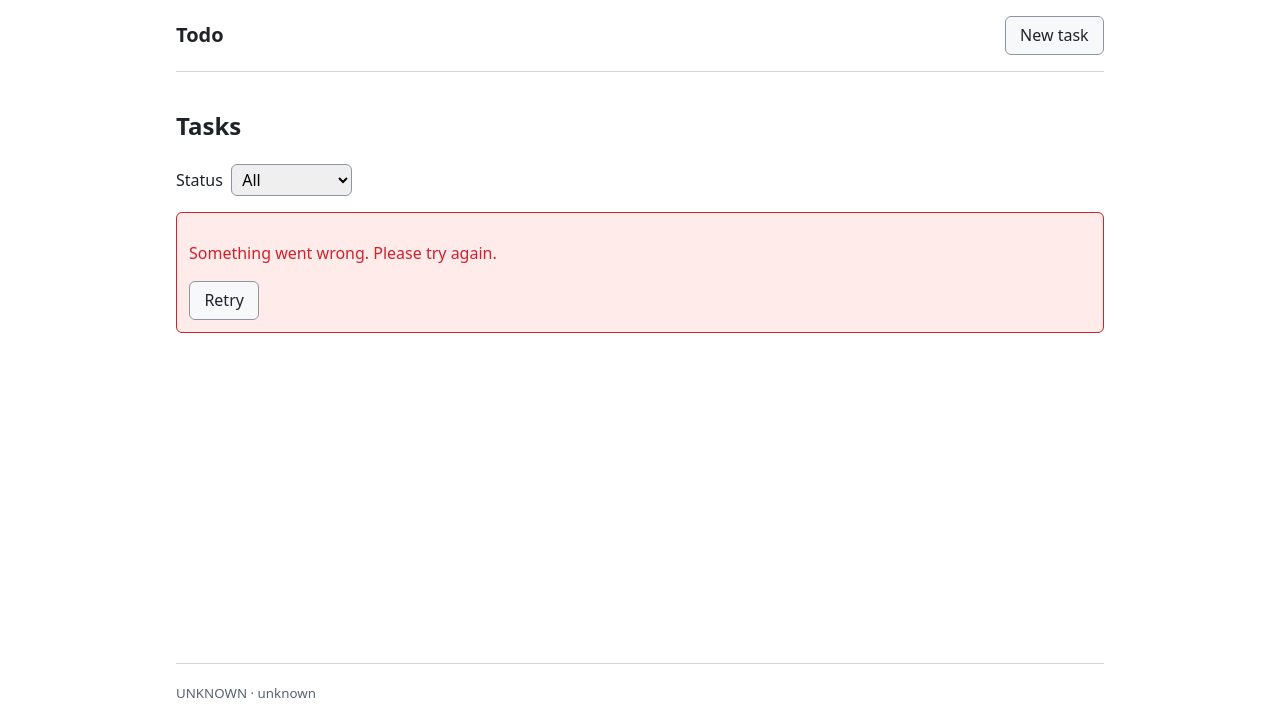
Test: SCRUM-1 task list › SCRUM-1-AC-10: a 500 shows a generic alert without the body; Retry re-requests and recovers
The image size is (1280, 720).
Expected: the message shows "Something went wrong. Please try again.", [189,242,497,264]
Expected: the message does not show "PSQLException", [176,212,1104,333]
Click the button "Retry".
click(224, 300)  # box [189,281,259,320]
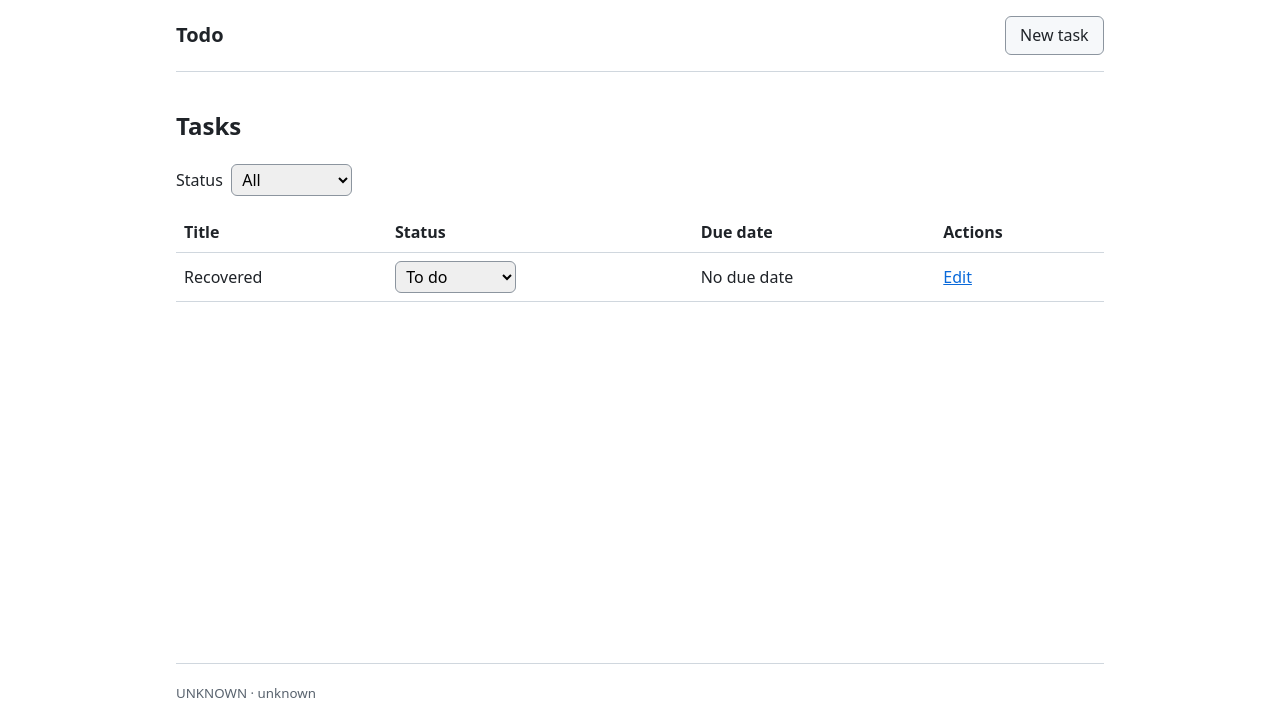
Expected: the cell "Recovered" is shown, [176,253,387,302]
